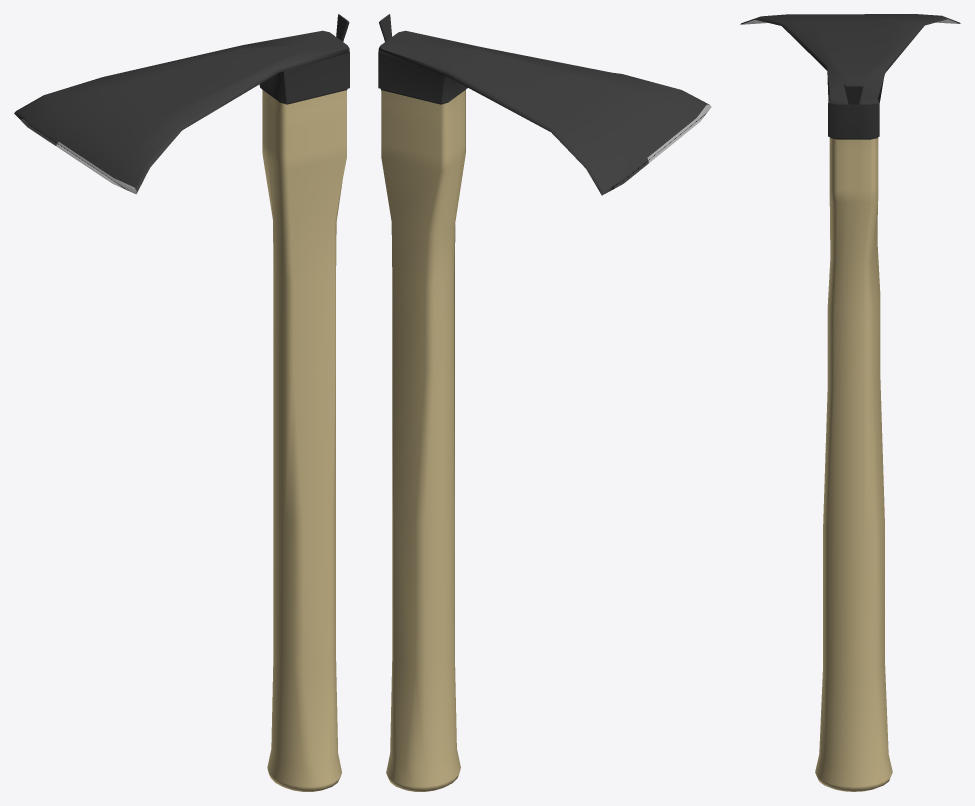
The model's file is Tool_Hoe.fbx.
The picture shows the model from 3 angles, left to right: view 1: azimuth 30°, elevation 25°; view 2: azimuth 150°, elevation 25°; view 3: azimuth 270°, elevation 25°; orthographic projection. The views are drawn at different scales.
Visible parts, largest first — view 1: Hoe_Final; view 2: Hoe_Final; view 3: Hoe_Final.
Boxes of the visible parts, x1,y1,x2,y2 form: Hoe_Final: (14, 14, 349, 791); Hoe_Final: (378, 14, 711, 791); Hoe_Final: (740, 14, 960, 791).
Bounding box in the file's own units: 61.94 × 160 × 44.66.
